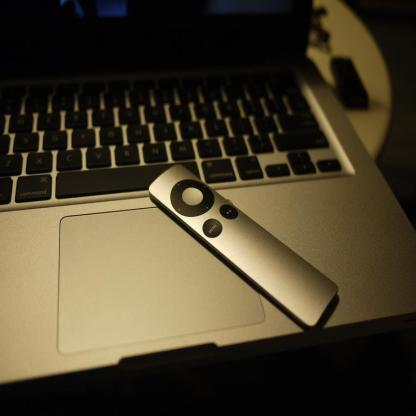board: (0, 0, 399, 383)
